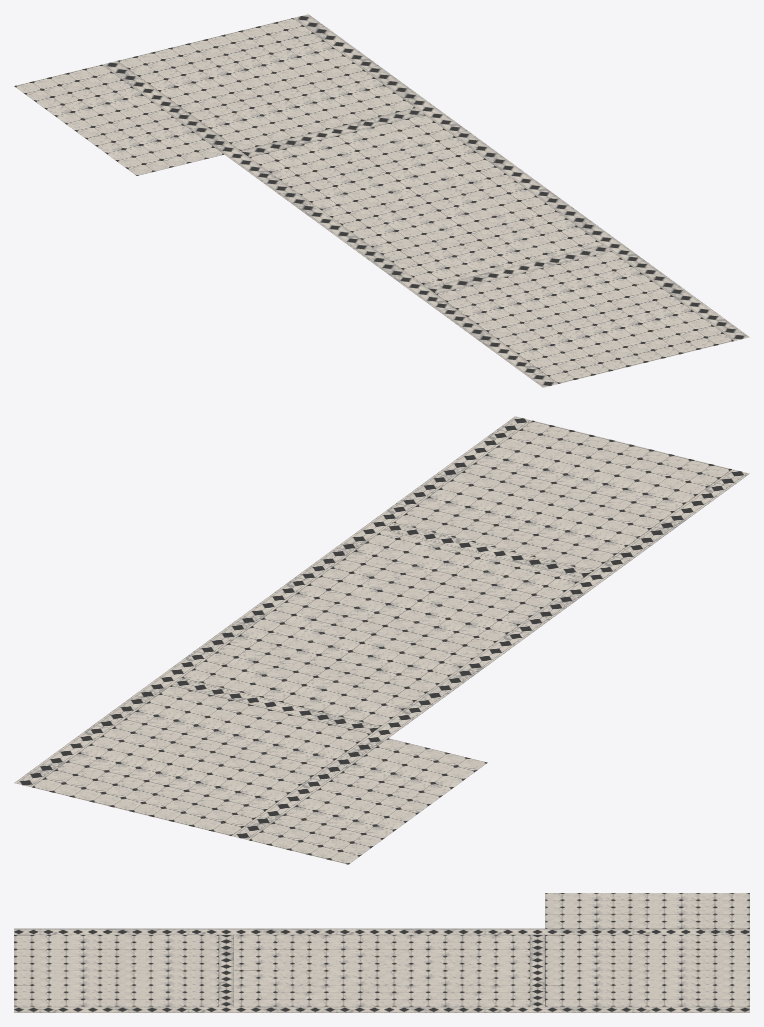
The model's file is MainFloor.fbx.
The picture shows the model from 3 angles, top to bottom: view 1: azimuth 30°, elevation 25°; view 2: azimuth 150°, elevation 25°; view 3: azimuth 270°, elevation 25°; orthographic projection. The views are drawn at different scales.
Parts seen in each view (by area): view 1: Cylinder.042, Cylinder.040; view 2: Cylinder.042, Cylinder.040; view 3: Cylinder.042, Cylinder.040.
Part boxes in pixels (box(x1,y1,x2,y2)): Cylinder.042: box(14, 18, 733, 383); Cylinder.040: box(102, 14, 749, 387); Cylinder.042: box(32, 420, 731, 864); Cylinder.040: box(14, 416, 749, 840); Cylinder.042: box(14, 893, 749, 1006); Cylinder.040: box(14, 928, 749, 1012).
Size of the model in its own units: 7016 by 0.00317 by 18212.
